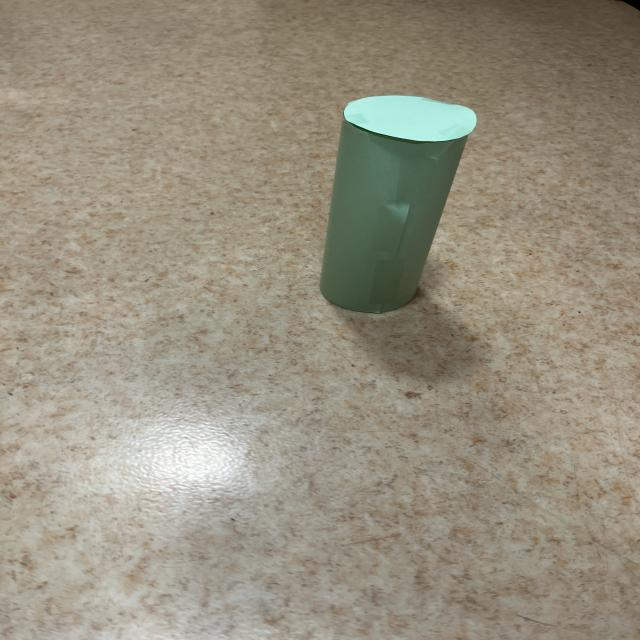meta: (320, 96, 475, 313)
